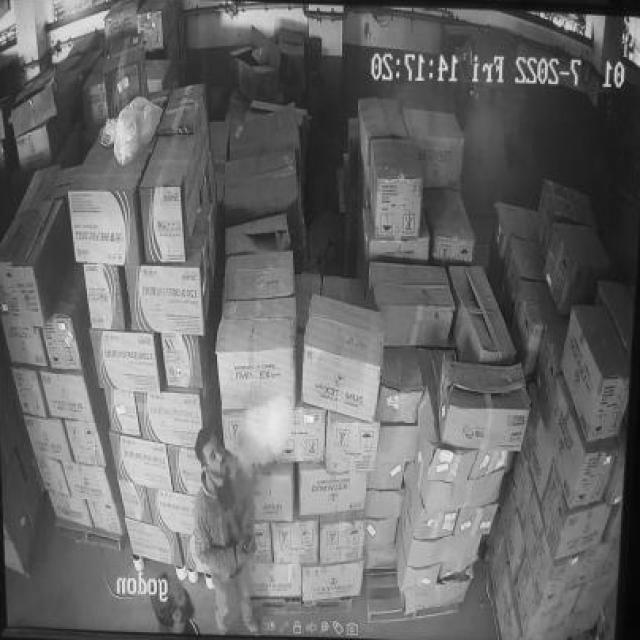fire: (235, 388, 300, 479)
